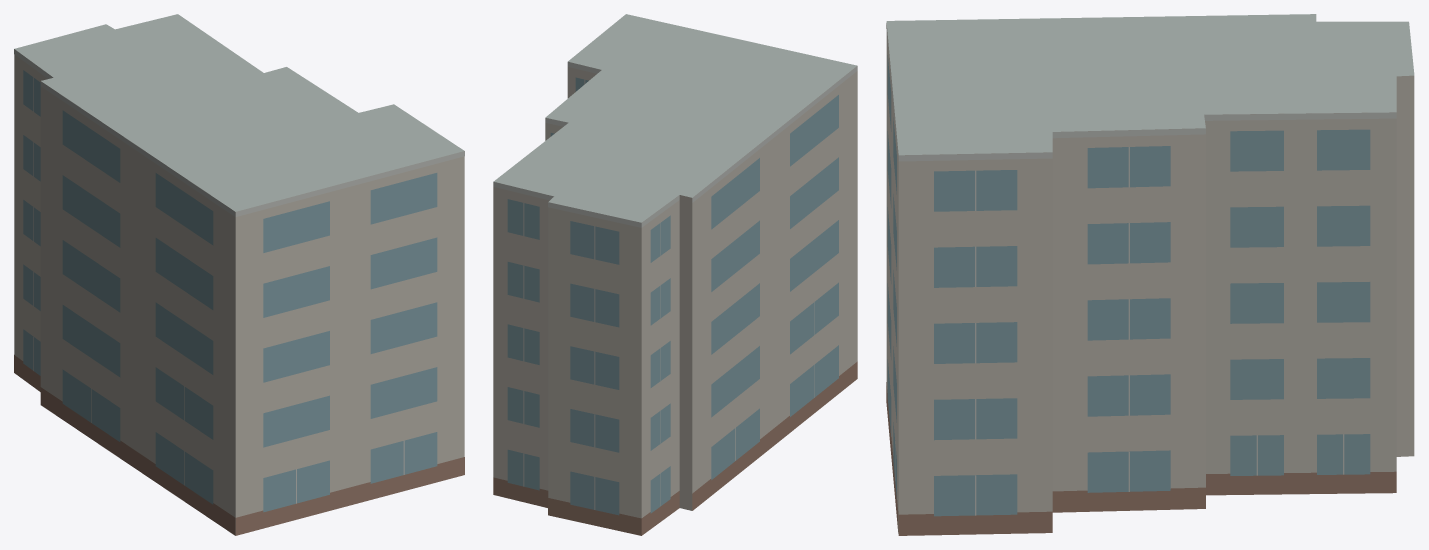
The model's file is survey-upis-32678204.glb.
The picture shows the model from 3 angles, left to right: view 1: azimuth 30°, elevation 25°; view 2: azimuth 150°, elevation 25°; view 3: azimuth 270°, elevation 25°; orthographic projection. The views are drawn at different scales.
Parts seen in each view (by area): view 1: survey-upis-32678204.tmp; view 2: survey-upis-32678204.tmp; view 3: survey-upis-32678204.tmp.
Part boxes in pixels (x1=…): survey-upis-32678204.tmp: x1=14, y1=14, x2=464, y2=535; survey-upis-32678204.tmp: x1=493, y1=14, x2=857, y2=535; survey-upis-32678204.tmp: x1=886, y1=14, x2=1414, y2=535.
Size of the model in its own units: 11.84 by 14.87 by 18.71.
